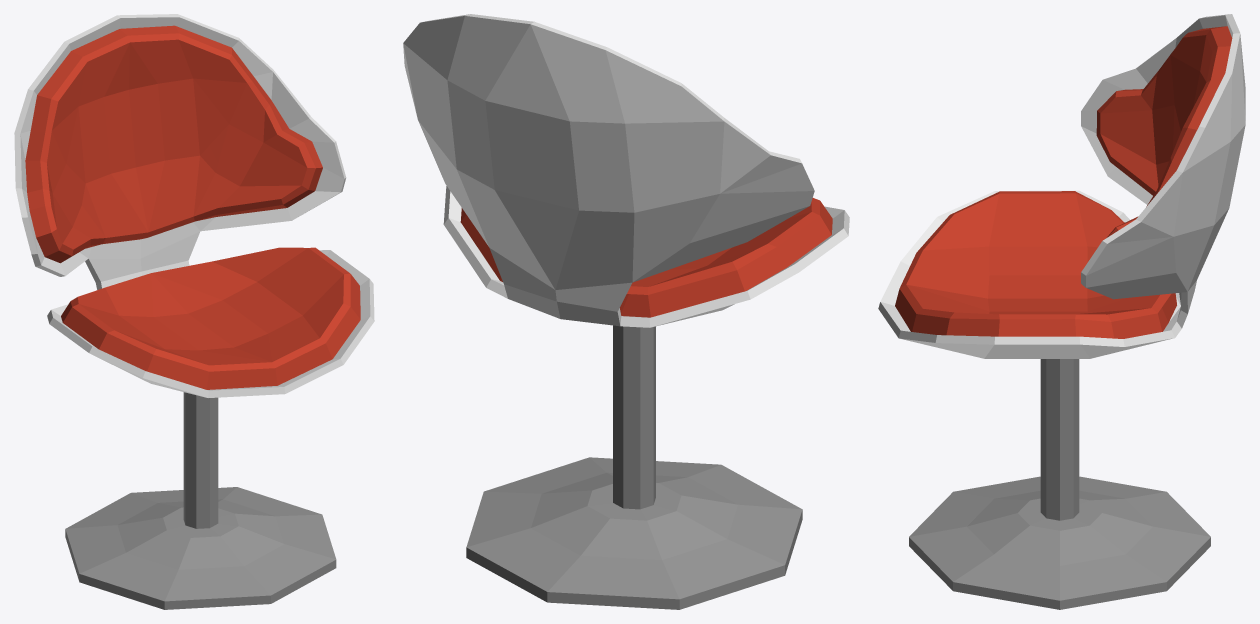
File: Int_Chair05_2.fbx
The picture shows the model from 3 angles, left to right: view 1: azimuth 30°, elevation 25°; view 2: azimuth 150°, elevation 25°; view 3: azimuth 270°, elevation 25°; orthographic projection. The views are drawn at different scales.
Parts seen in each view (by area): view 1: Int_Chair05_2; view 2: Int_Chair05_2; view 3: Int_Chair05_2.
Part boxes in pixels (x1,y1,x2,y2): Int_Chair05_2: [14, 14, 374, 609]; Int_Chair05_2: [403, 14, 849, 609]; Int_Chair05_2: [878, 14, 1245, 609].
Size of what is drawn, in the model's own units: 81.35 by 76.31 by 118.
